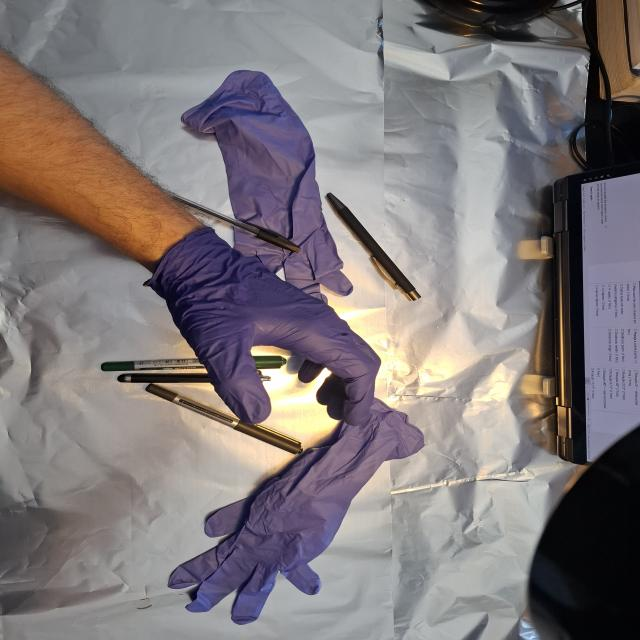glove_on: (150, 227, 384, 429)
